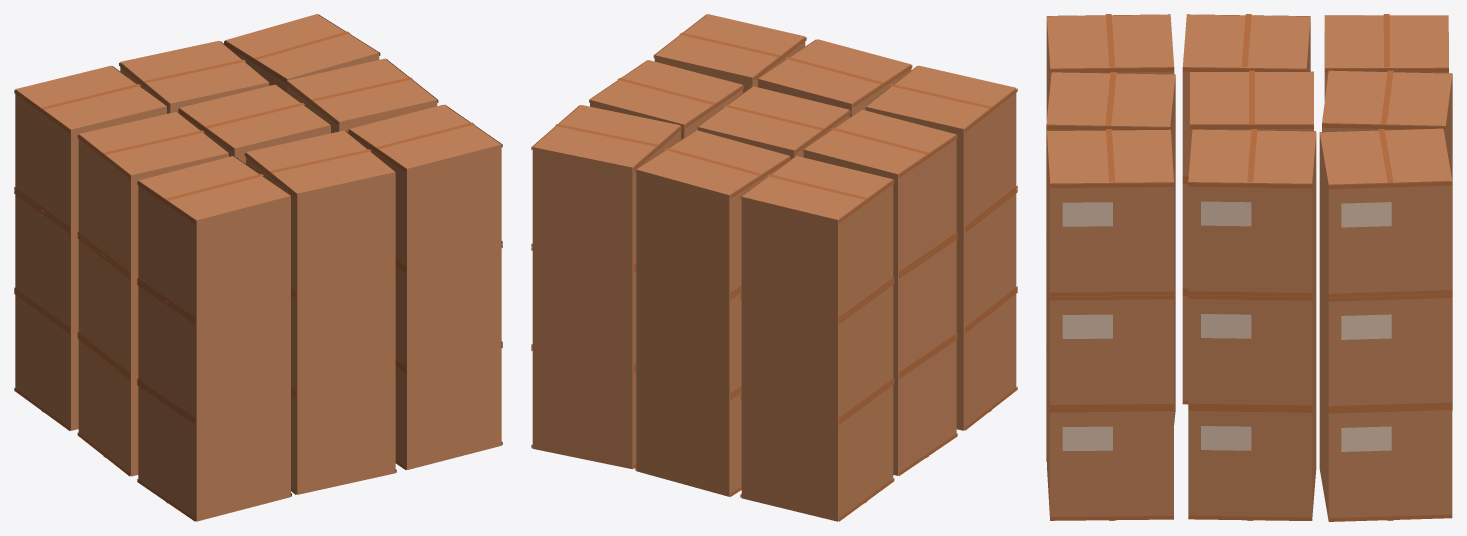
The model's file is SRA_Box_Stack_03.glb.
3 renders of one model, left to right at view 1: azimuth 30°, elevation 25°; view 2: azimuth 150°, elevation 25°; view 3: azimuth 270°, elevation 25°, orthographic. The views are drawn at different scales.
Visible parts, largest first — view 1: Box_Stack_03; view 2: Box_Stack_03; view 3: Box_Stack_03.
Part boxes in pixels (box(x1,y1,x2,y2)): Box_Stack_03: box(14, 14, 502, 521); Box_Stack_03: box(531, 14, 1017, 521); Box_Stack_03: box(1046, 14, 1452, 521).
Size of the model in its own units: 0.9143 by 0.844 by 0.9176.
1 material, 1 textured.
